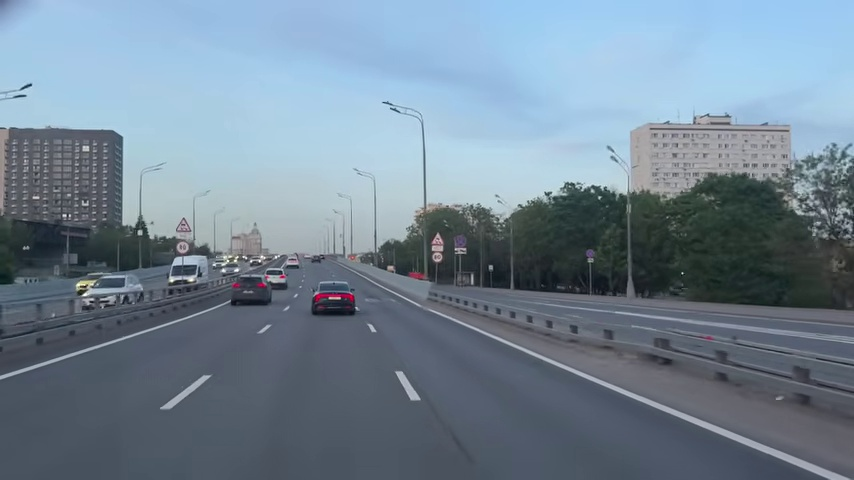apagada: (182, 372, 212, 402), (13, 81, 34, 103), (380, 98, 401, 117), (151, 160, 167, 174), (351, 165, 364, 179), (199, 188, 211, 200)
